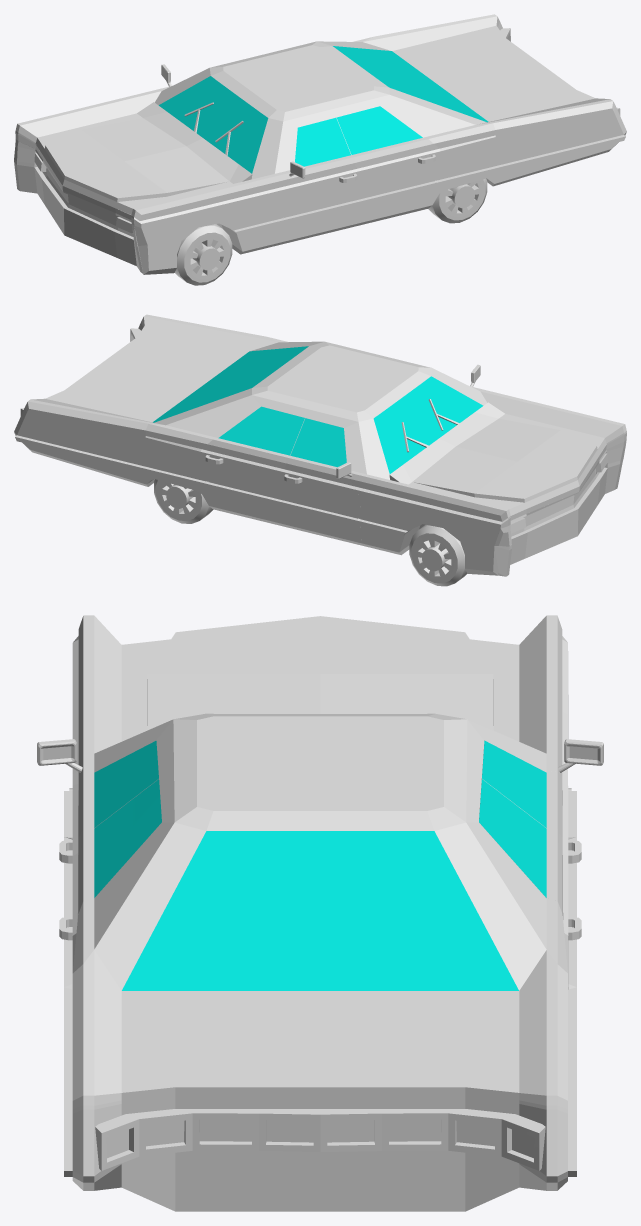
Rendered from new-vehicle.fbx.
3 renders of one model, top to bottom at view 1: azimuth 30°, elevation 25°; view 2: azimuth 150°, elevation 25°; view 3: azimuth 270°, elevation 25°, orthographic. The views are drawn at different scales.
Parts seen in each view (by area): view 1: Body, Hood, rl_door, fl_door, Front_bumper.001, fl_tire, rl_tire; view 2: Body, Hood, rr_door, fr_door, Front_bumper.001, fr_tire, rr_tire; view 3: Body, Hood, Tail_lights, rr_door, rl_door, fr_door, fl_door, Side mirrors, Side mirrors.001.
Part boxes in pixels (box(x1,y1,x2,y2)): Body: box(15, 14, 626, 274); Hood: box(35, 102, 252, 214); rl_door: box(336, 106, 443, 226); fl_door: box(278, 117, 363, 245); Front_bumper.001: box(14, 139, 143, 273); fl_tire: box(174, 224, 232, 285); rl_tire: box(428, 178, 487, 223); Body: box(14, 314, 626, 575); Hood: box(389, 402, 606, 515); rr_door: box(197, 406, 305, 526); fr_door: box(278, 418, 363, 545); Front_bumper.001: box(494, 439, 626, 576); fr_tire: box(409, 525, 467, 586); rr_tire: box(154, 479, 213, 523); Body: box(64, 615, 576, 1211); Hood: box(121, 616, 519, 741); Tail_lights: box(95, 1109, 545, 1170); rr_door: box(479, 779, 581, 989); rl_door: box(59, 779, 161, 986); fr_door: box(482, 740, 581, 914); fl_door: box(59, 741, 158, 914); Side mirrors: box(558, 739, 603, 772); Side mirrors.001: box(37, 739, 82, 772).
Size of the model in its own units: 642 by 155 by 312.
